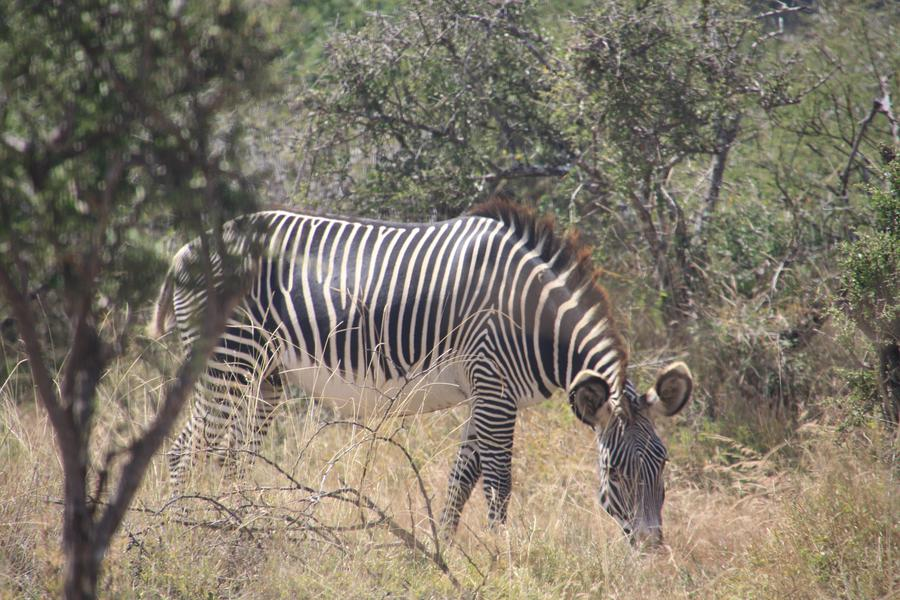zebra_grevys: (258, 196, 523, 409)
